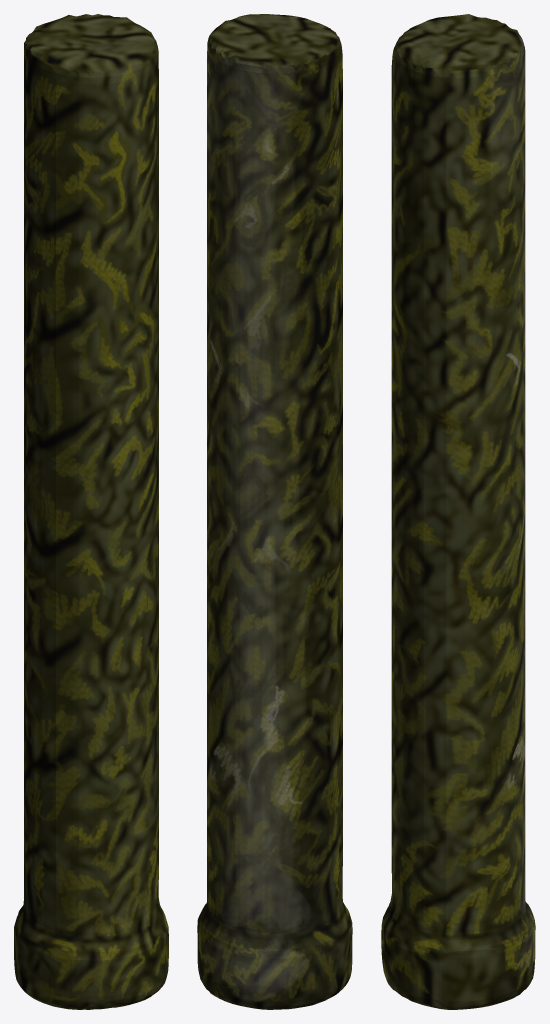
Rendered from Outerpillar_.obj.
The picture shows the model from 3 angles, left to right: view 1: azimuth 30°, elevation 25°; view 2: azimuth 150°, elevation 25°; view 3: azimuth 270°, elevation 25°; orthographic projection.
Visible parts, largest first — view 1: tripo_node_c7bff0a6-7945-465e-b363-e9e56356ebcd_tripo_mat_c7bff0; view 2: tripo_node_c7bff0a6-7945-465e-b363-e9e56356ebcd_tripo_mat_c7bff0; view 3: tripo_node_c7bff0a6-7945-465e-b363-e9e56356ebcd_tripo_mat_c7bff0.
Part boxes in pixels (<box>): tripo_node_c7bff0a6-7945-465e-b363-e9e56356ebcd_tripo_mat_c7bff0: <box>14,14,168,1009</box>; tripo_node_c7bff0a6-7945-465e-b363-e9e56356ebcd_tripo_mat_c7bff0: <box>197,14,352,1009</box>; tripo_node_c7bff0a6-7945-465e-b363-e9e56356ebcd_tripo_mat_c7bff0: <box>381,14,535,1009</box>.
Size of the model in its own units: 0.1473 by 1 by 0.1483.
1 material, 1 textured.
